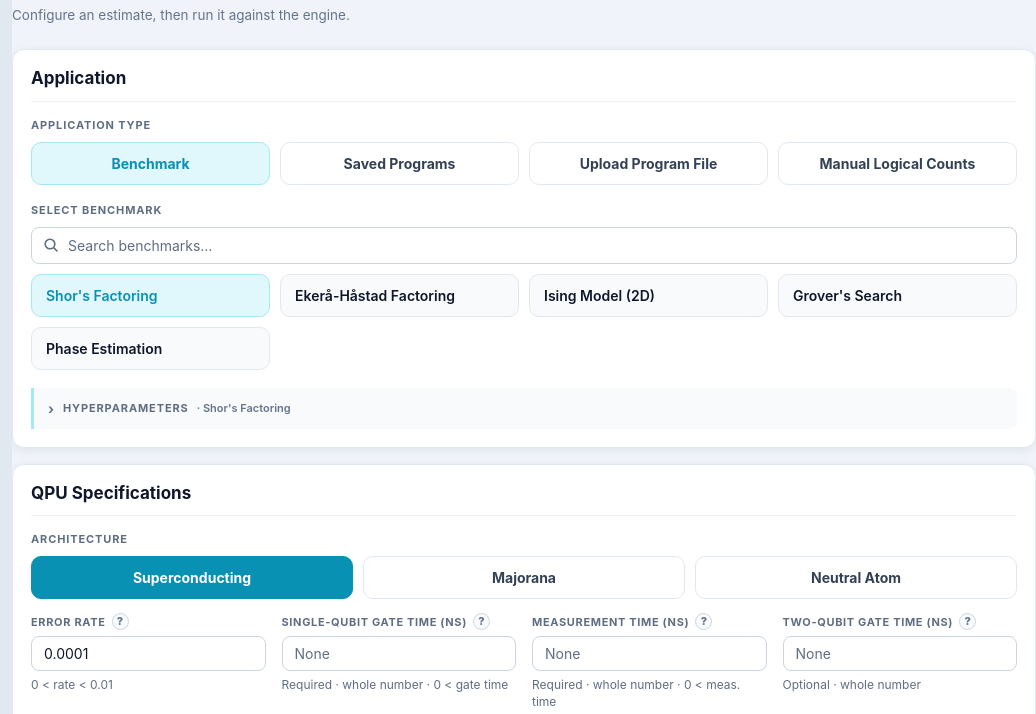
it: Magic State Factory availability and multi-select › re-enables Litinski19 after switching back to Superconducting
Click the radio button labelled "Majorana" at (524, 578), box top-left (363, 556), bottom-right (685, 599)
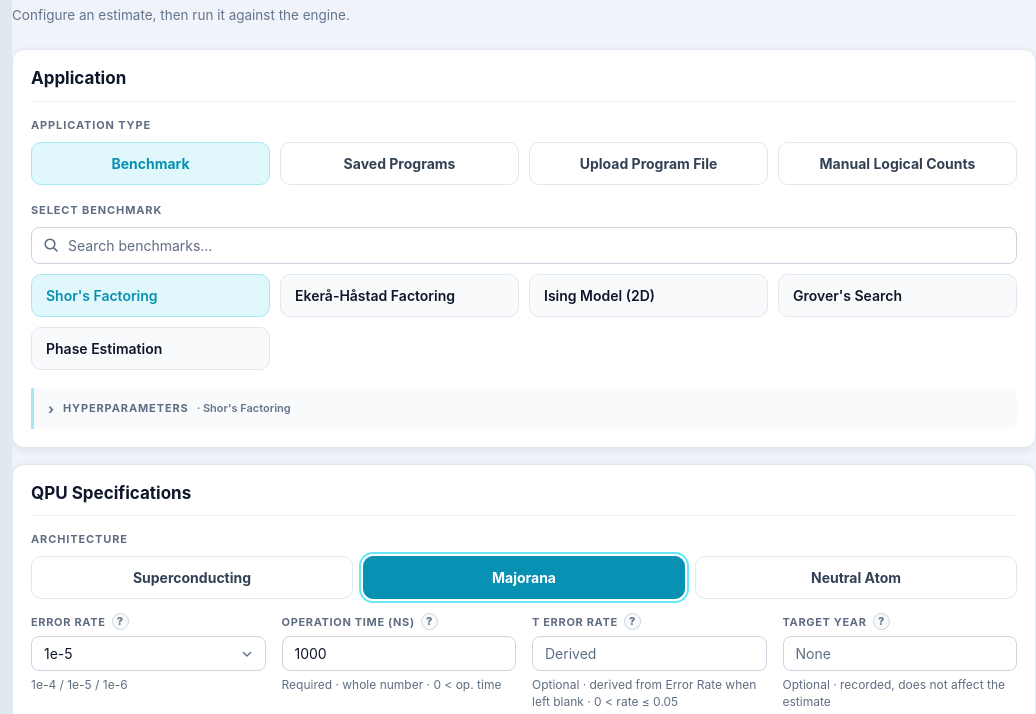
Click the radio button labelled "Superconducting" at (192, 578), box top-left (31, 556), bottom-right (353, 599)
(page scrolled)
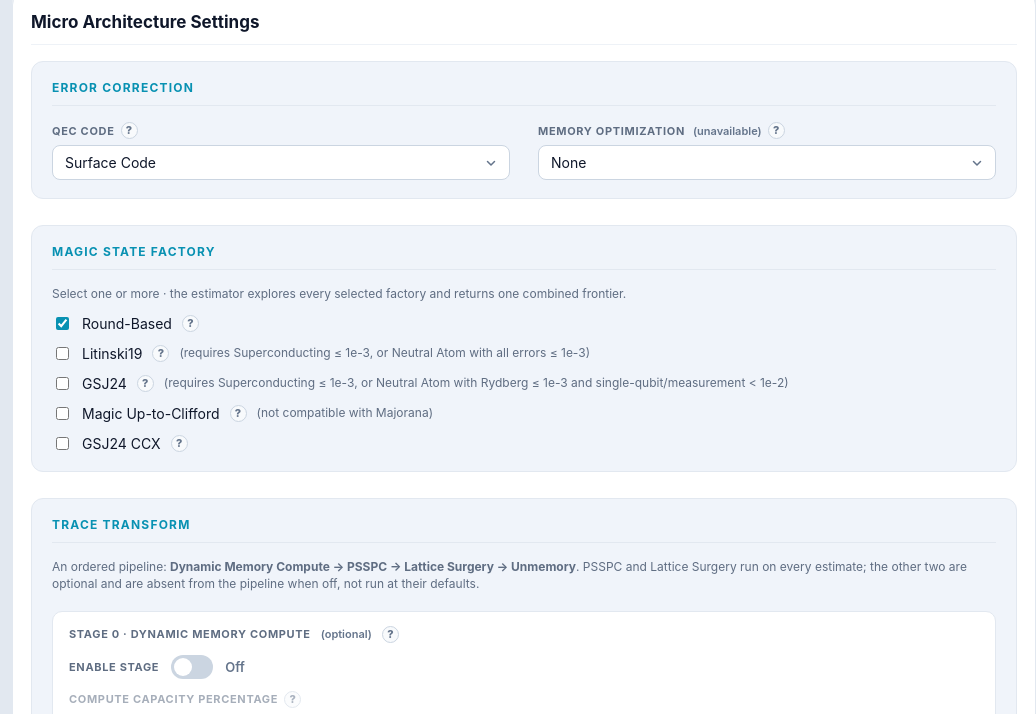
Expected: the checkbox labelled "Litinski19" is enabled, top-left (56, 347), bottom-right (69, 360)
